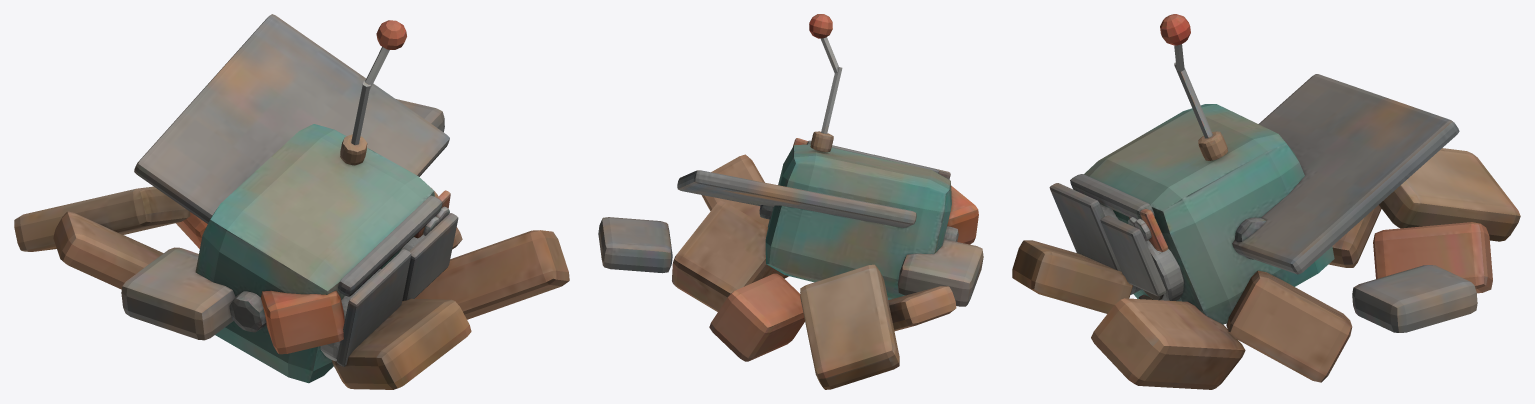
Rendered from scrappy_head_buried.glb.
3 views of the same model, side by side, from view 1: azimuth 30°, elevation 25°; view 2: azimuth 150°, elevation 25°; view 3: azimuth 270°, elevation 25° (orthographic). The views are drawn at different scales.
Parts seen in each view (by area): view 1: ScrappyHeadBuried_Mesh, Head_Mesh, LidL_Mesh, LidR_Mesh, Antenna_Mesh, EyeL_Mesh; view 2: ScrappyHeadBuried_Mesh, Head_Mesh, Antenna_Mesh; view 3: ScrappyHeadBuried_Mesh, Head_Mesh, LidL_Mesh, LidR_Mesh, Antenna_Mesh, EyeR_Mesh.
Boxes of the visible parts, <box> form: ScrappyHeadBuried_Mesh: <box>14,14,569,389</box>; Head_Mesh: <box>195,124,450,383</box>; LidL_Mesh: <box>336,249,411,366</box>; LidR_Mesh: <box>402,213,458,300</box>; Antenna_Mesh: <box>340,20,406,165</box>; EyeL_Mesh: <box>320,268,381,361</box>; ScrappyHeadBuried_Mesh: <box>598,154,983,389</box>; Head_Mesh: <box>759,138,958,299</box>; Antenna_Mesh: <box>809,14,842,152</box>; ScrappyHeadBuried_Mesh: <box>1012,74,1520,389</box>; Head_Mesh: <box>1070,104,1334,324</box>; LidL_Mesh: <box>1049,183,1120,271</box>; LidR_Mesh: <box>1100,215,1166,296</box>; Antenna_Mesh: <box>1160,14,1227,160</box>; EyeR_Mesh: <box>1143,240,1183,300</box>.
Size of the model in its own units: 0.8508 by 0.6704 by 0.8944.
7 materials, 7 textured.
